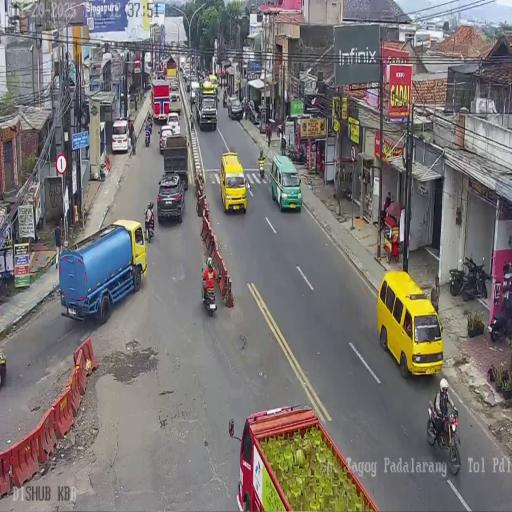car: (376, 271, 442, 378), (270, 153, 302, 212), (220, 151, 247, 214), (157, 171, 186, 224), (111, 118, 130, 154), (158, 126, 173, 154), (227, 94, 243, 120), (166, 112, 181, 133), (190, 80, 200, 104), (208, 73, 218, 92), (184, 68, 191, 86)
motorcycle: (426, 398, 461, 474), (448, 253, 488, 301), (489, 280, 512, 342), (201, 263, 218, 315), (286, 142, 306, 164), (246, 100, 260, 124), (144, 211, 154, 241), (0, 350, 6, 385), (258, 155, 265, 180), (276, 118, 284, 138), (280, 133, 286, 156), (145, 126, 151, 146), (241, 98, 247, 118), (222, 92, 228, 108), (216, 94, 219, 108)
truck: (236, 404, 373, 512), (59, 220, 147, 322), (196, 80, 218, 131), (150, 77, 170, 123), (168, 90, 181, 114), (169, 77, 178, 94), (179, 56, 186, 71)
